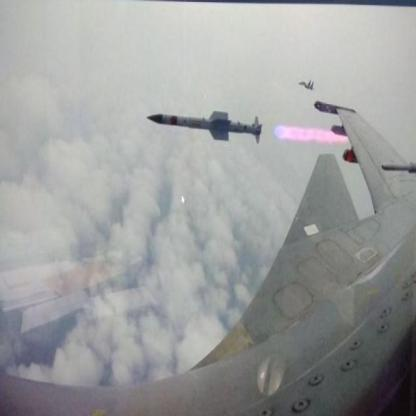MIL_TBM: (142, 106, 264, 148)
